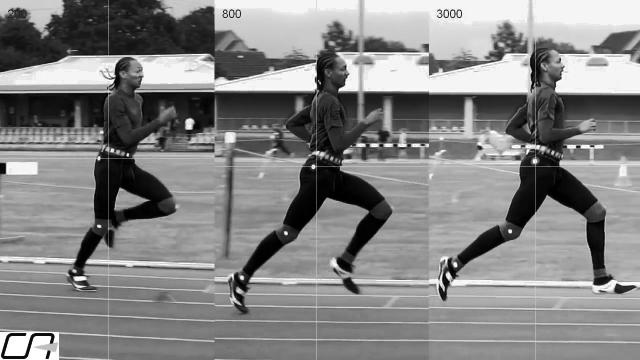berlari: (434, 44, 636, 310), (229, 46, 393, 314), (46, 54, 182, 298)
